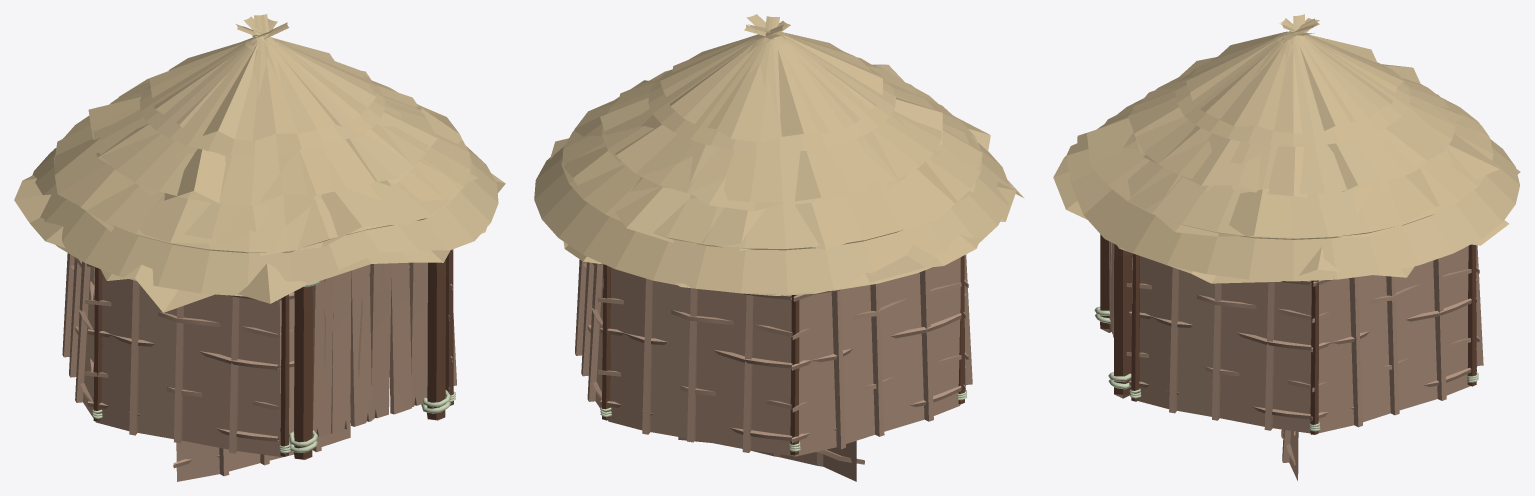
Rendered from JungleHut.fbx.
The picture shows the model from 3 angles, left to right: view 1: azimuth 30°, elevation 25°; view 2: azimuth 150°, elevation 25°; view 3: azimuth 270°, elevation 25°; orthographic projection. The views are drawn at different scales.
Parts seen in each view (by area): view 1: Hut_roof, Hut_walls, Hut_door, Hut_poles, Hut_wall; view 2: Hut_roof, Hut_walls, Hut_poles, Hut_wall; view 3: Hut_roof, Hut_walls, Hut_poles, Hut_wall.
Boxes of the visible parts, box(x1,y1,x2,y2) form: Hut_roof: box(14, 14, 505, 312); Hut_walls: box(62, 249, 456, 456); Hut_door: box(312, 262, 427, 436); Hut_poles: box(92, 38, 455, 459); Hut_wall: box(173, 292, 350, 481); Hut_roof: box(534, 14, 1024, 295); Hut_walls: box(575, 254, 972, 456); Hut_poles: box(600, 39, 966, 455); Hut_wall: box(678, 437, 864, 481); Hut_roof: box(1053, 14, 1520, 283); Hut_walls: box(1126, 245, 1483, 433); Hut_poles: box(1094, 234, 1478, 434); Hut_wall: box(1281, 429, 1298, 480).
Bounding box in the file's own units: 3.58 × 3.6 × 3.64.
